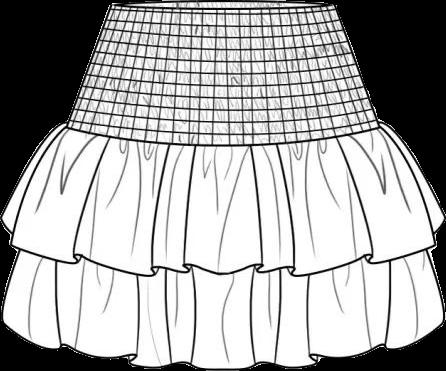Hemline: (0, 215, 445, 277), (0, 318, 445, 370)
Waistline: (65, 123, 381, 148), (110, 1, 334, 12)
